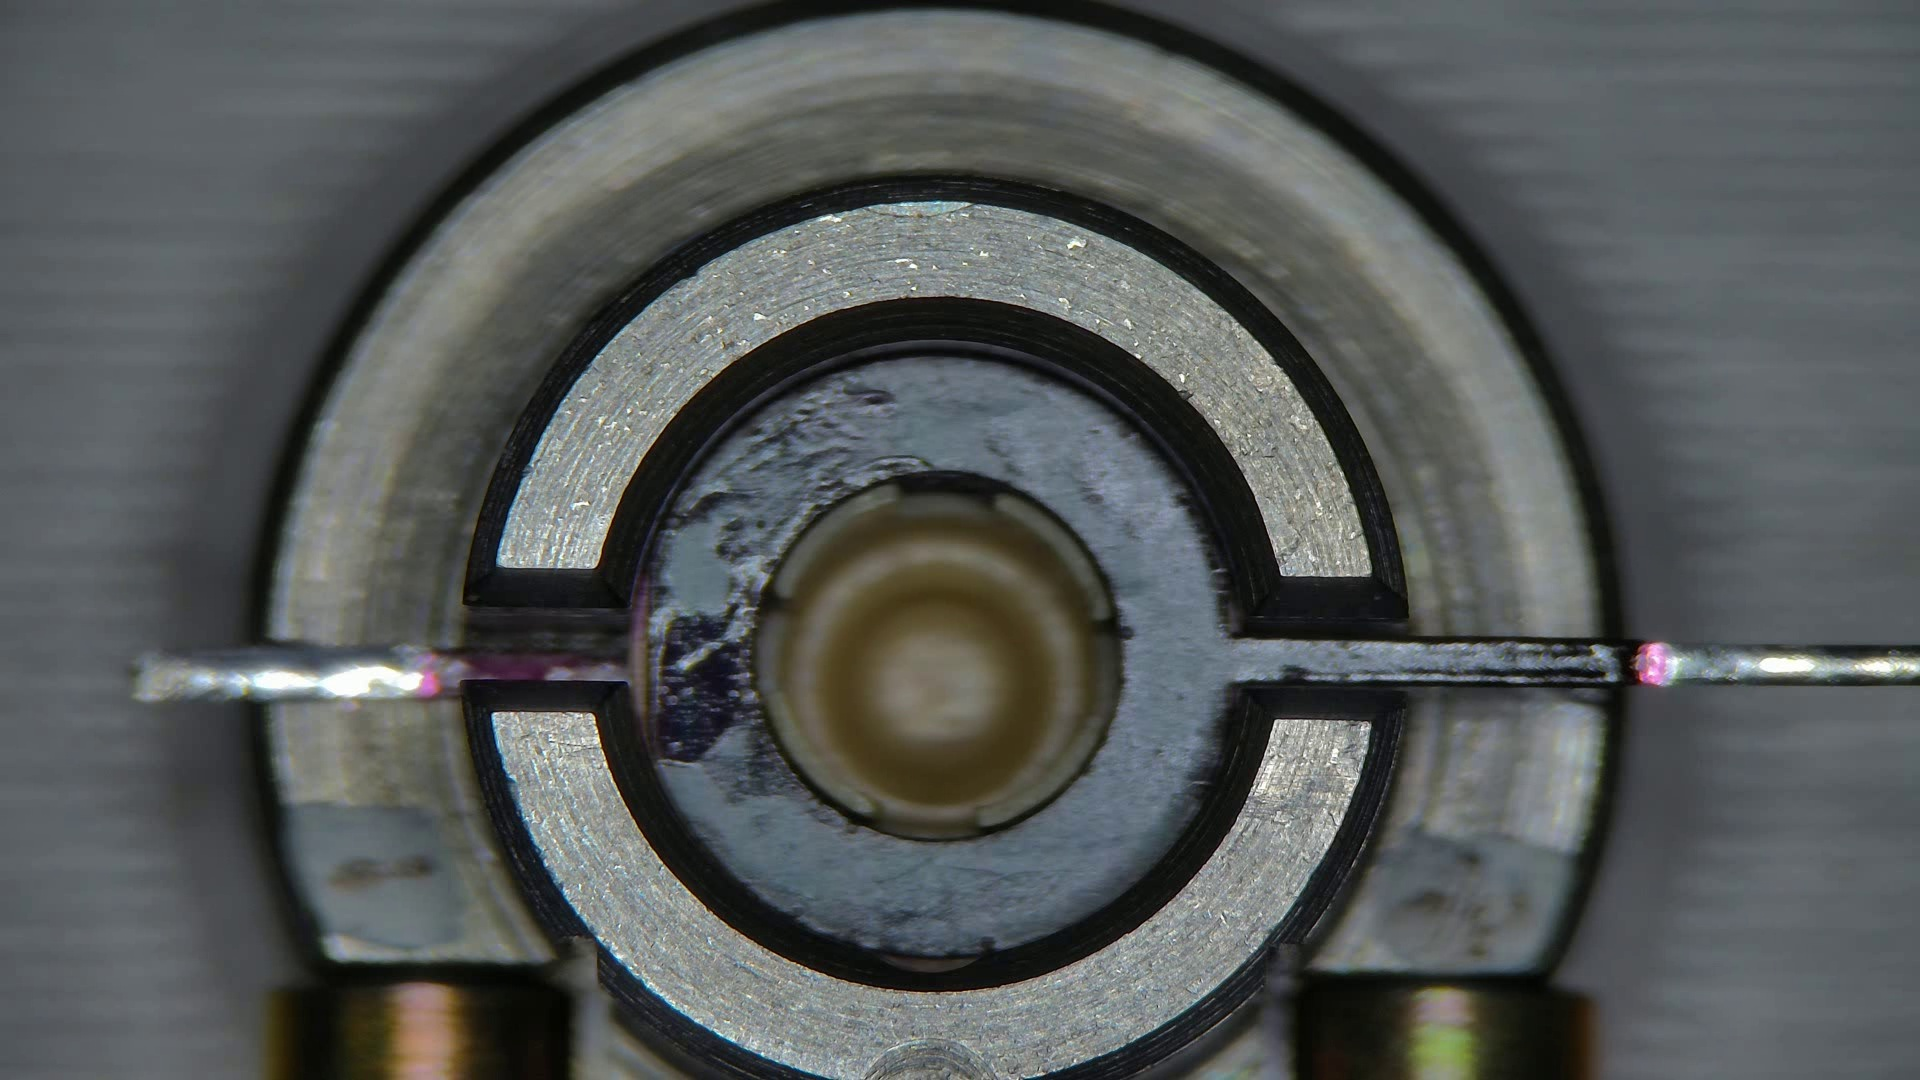YellowOring: (644, 353, 1228, 959)
